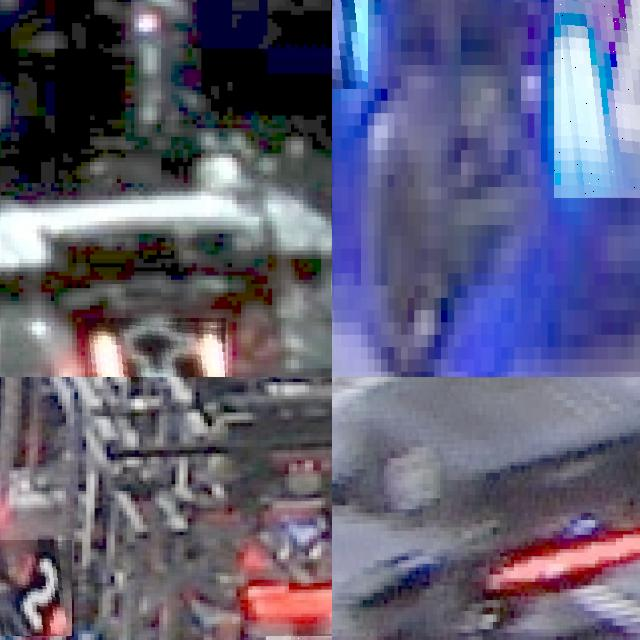B4: (554, 0, 640, 199)
R2: (0, 540, 72, 635)
Rs: (85, 318, 227, 377)
